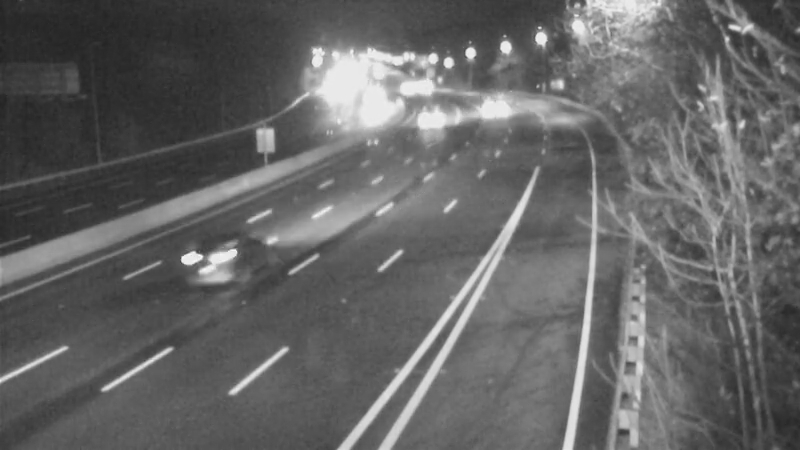vehicle: (162, 221, 242, 301), (466, 79, 516, 129), (401, 95, 451, 145), (346, 87, 396, 137)
